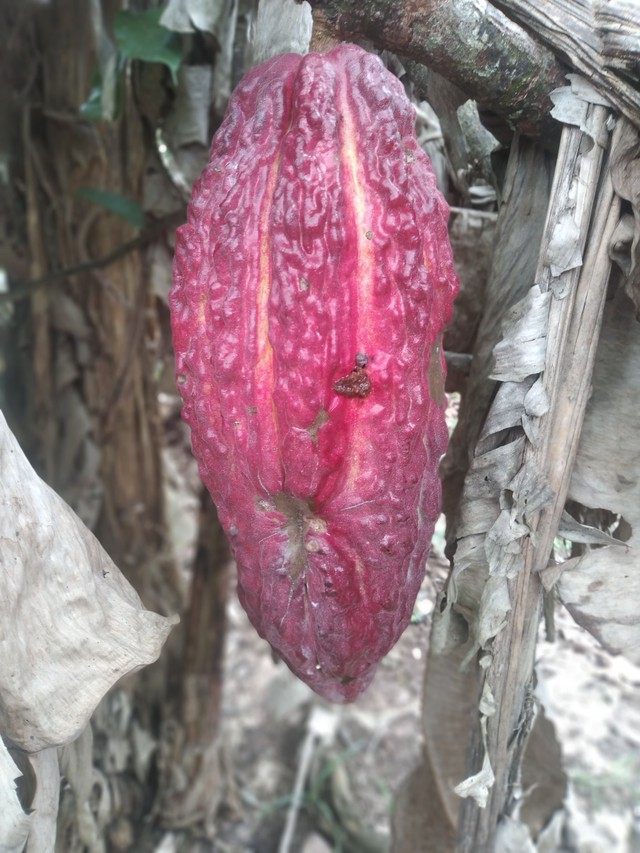carmenta foraseminis: (168, 38, 466, 708)
